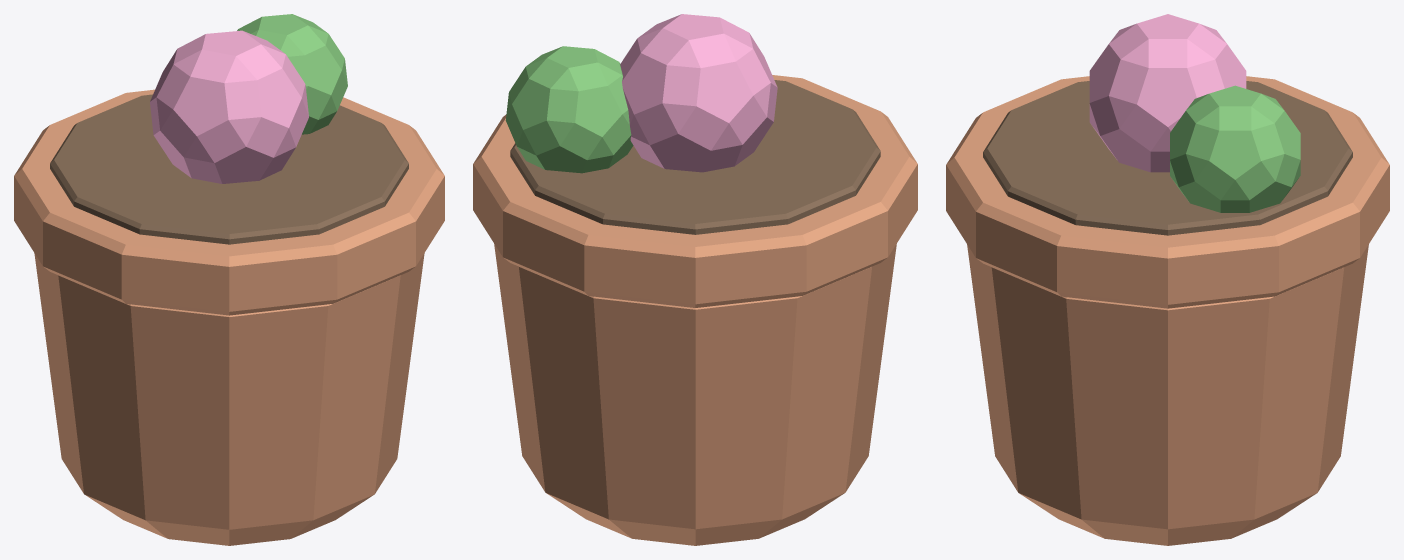
The picture shows the model from 3 angles, left to right: view 1: azimuth 30°, elevation 25°; view 2: azimuth 150°, elevation 25°; view 3: azimuth 270°, elevation 25°; orthographic projection. The views are drawn at different scales.
Visible parts, largest first — view 1: PostVisual; view 2: PostVisual; view 3: PostVisual.
Boxes of the visible parts, x1,y1,x2,y2 form: PostVisual: (14,14,444,545); PostVisual: (473,14,917,545); PostVisual: (946,14,1389,545).
Bounding box in the file's own units: 0.132 × 0.1526 × 0.132.
